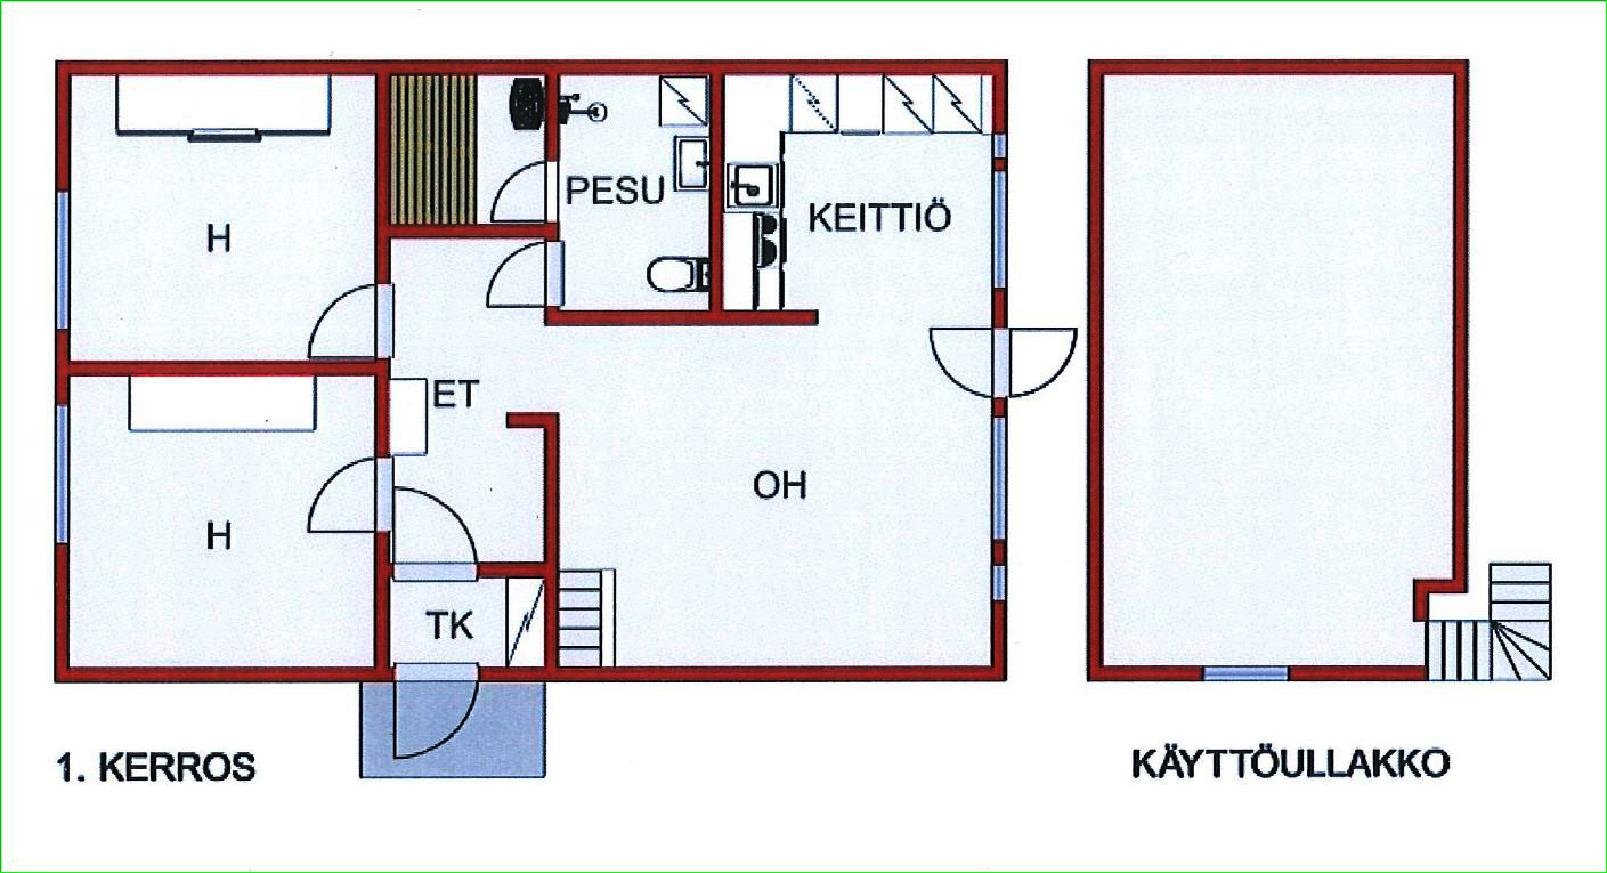door: (922, 332, 1078, 404), (396, 660, 486, 764), (389, 484, 479, 584), (298, 458, 396, 538), (302, 284, 392, 362), (482, 246, 564, 309), (483, 156, 558, 221)
window: (52, 406, 74, 549), (51, 194, 72, 323), (992, 173, 1011, 292), (1197, 667, 1291, 688), (988, 415, 1004, 539), (985, 567, 1011, 593), (989, 129, 1006, 153)
zone: (1110, 69, 1445, 671), (545, 321, 990, 672), (68, 376, 376, 666), (72, 72, 372, 364), (726, 72, 1001, 326), (390, 243, 549, 560), (558, 75, 705, 300), (389, 69, 546, 226), (362, 686, 539, 775), (392, 583, 541, 661)
